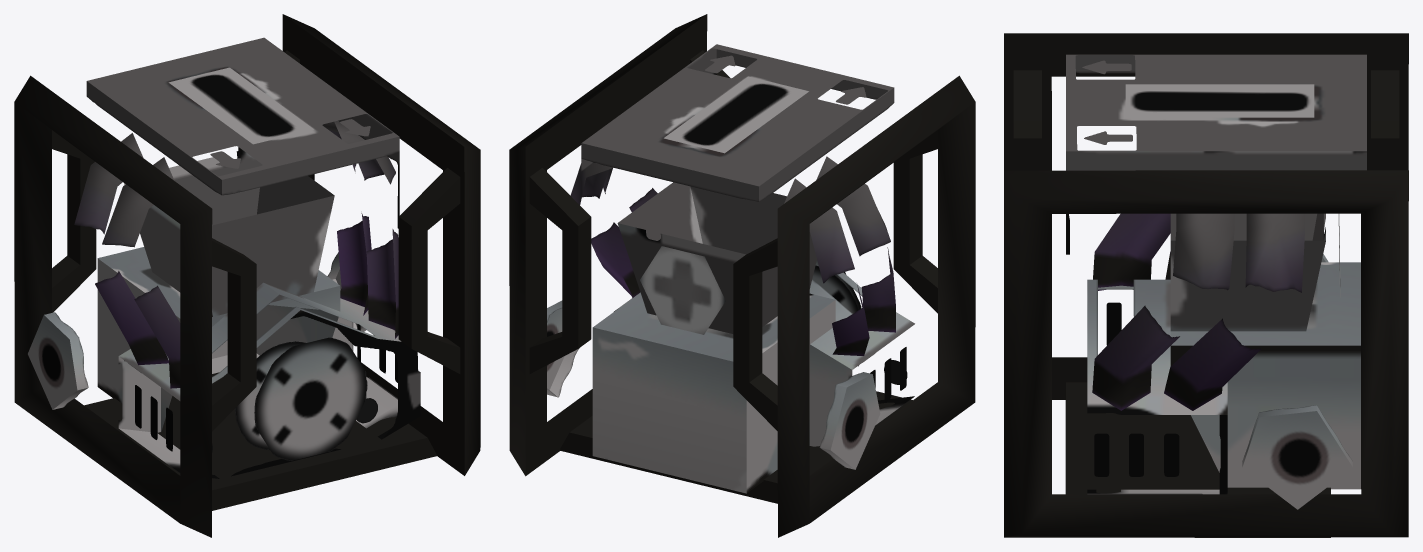
Rendered from obj_interactive_gasengine_02_off_lod1.fbx.
3 views of the same model, side by side, from view 1: azimuth 30°, elevation 25°; view 2: azimuth 150°, elevation 25°; view 3: azimuth 270°, elevation 25° (orthographic). The views are drawn at different scales.
Parts seen in each view (by area): view 1: obj_interactive_gasengine_02_off_lod1; view 2: obj_interactive_gasengine_02_off_lod1; view 3: obj_interactive_gasengine_02_off_lod1.
Part boxes in pixels (x1,y1,x2,y2): obj_interactive_gasengine_02_off_lod1: (14,14,480,537); obj_interactive_gasengine_02_off_lod1: (509,14,975,537); obj_interactive_gasengine_02_off_lod1: (1004,33,1408,537).
Size of the model in its own units: 2 by 2.35 by 2.04.
Materials: 1 (1 with a texture image).
